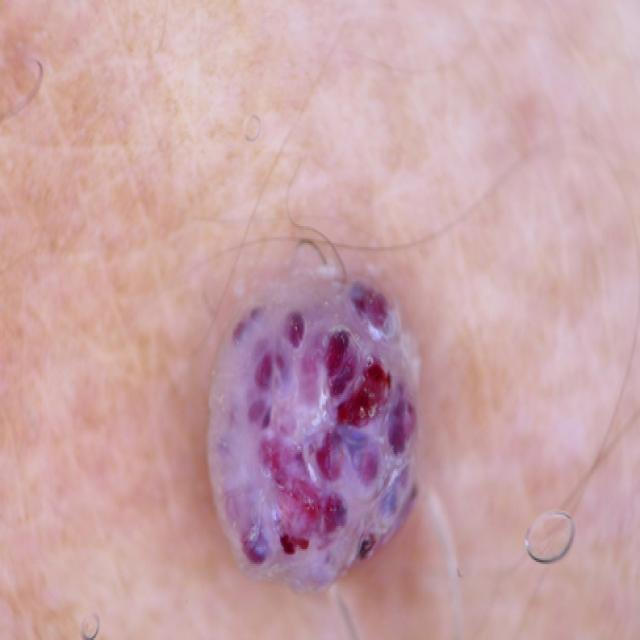Vascular Lesions: (200, 203, 464, 627)
